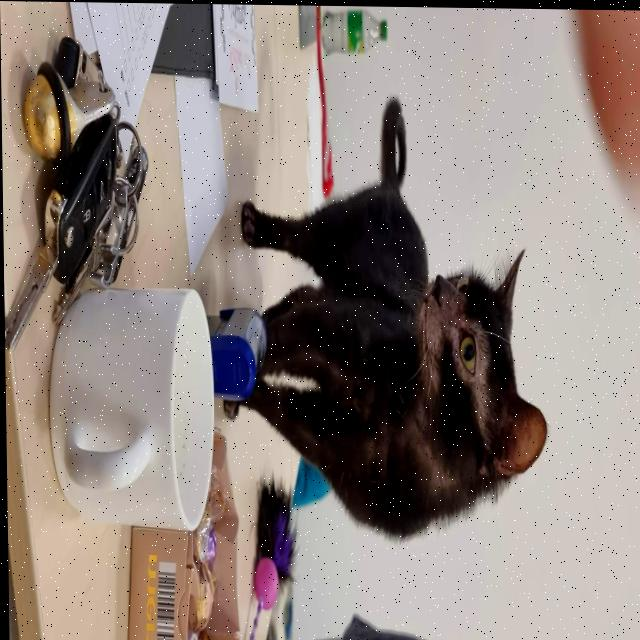Lykoi: (215, 87, 550, 544)
